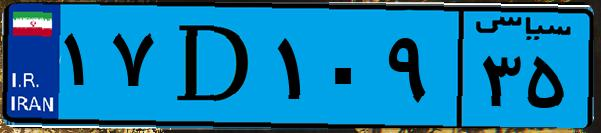0: (330, 28, 385, 110)
1: (270, 28, 330, 110), (57, 26, 110, 100)
3: (475, 38, 525, 113)
5: (525, 38, 570, 115)
7: (110, 28, 158, 98)
9: (385, 28, 445, 110)
D: (158, 12, 270, 120)
